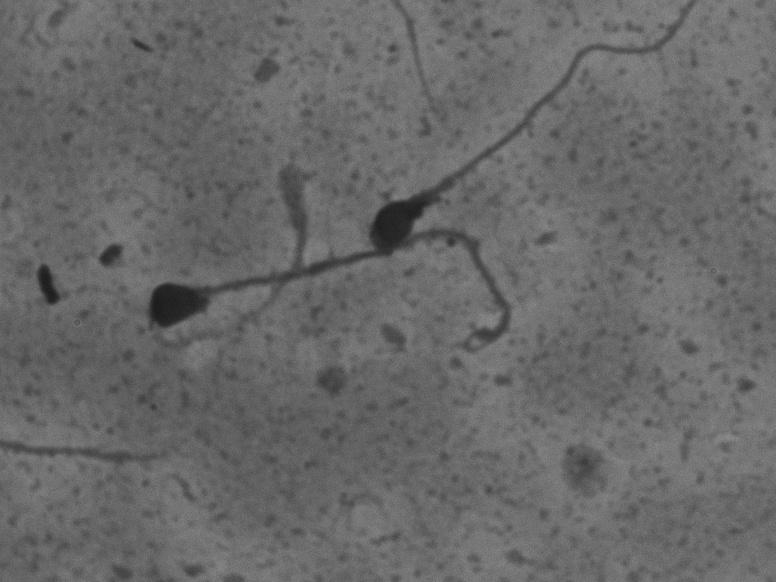Abnormal: (379, 2, 701, 244), (137, 218, 520, 363)
